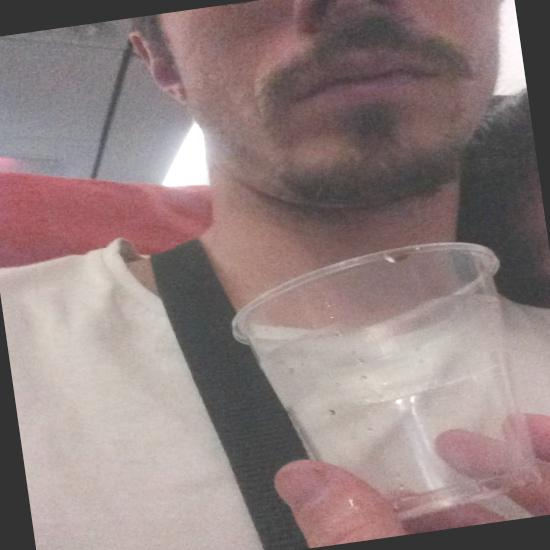Disposable plastic cup: (232, 242, 542, 521)
